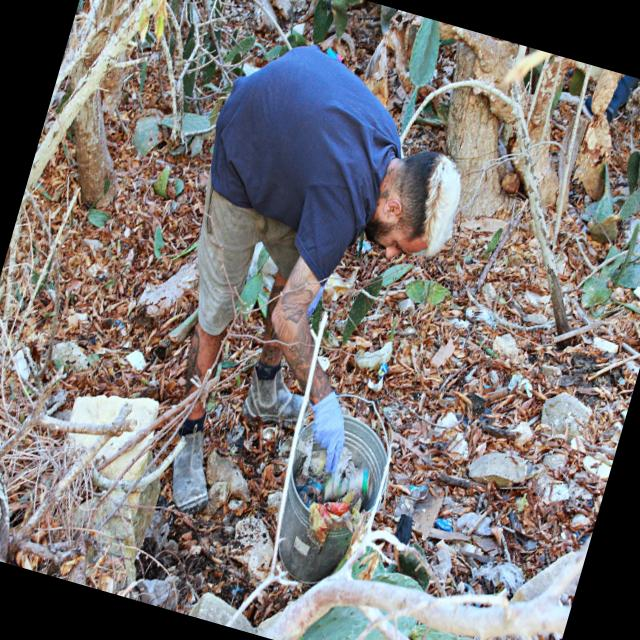Can: (324, 466, 371, 502)
Other litter: (294, 474, 322, 509), (394, 513, 411, 545)
Other plastic: (306, 498, 354, 554), (353, 340, 392, 371), (365, 363, 389, 395), (431, 516, 458, 538), (408, 480, 431, 496), (325, 47, 344, 64), (230, 585, 245, 597), (114, 319, 124, 330)
